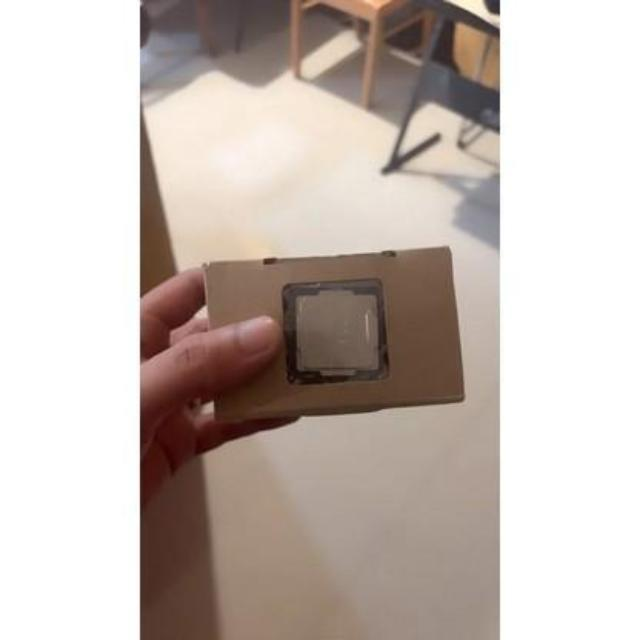CPU: (290, 292, 382, 374)
